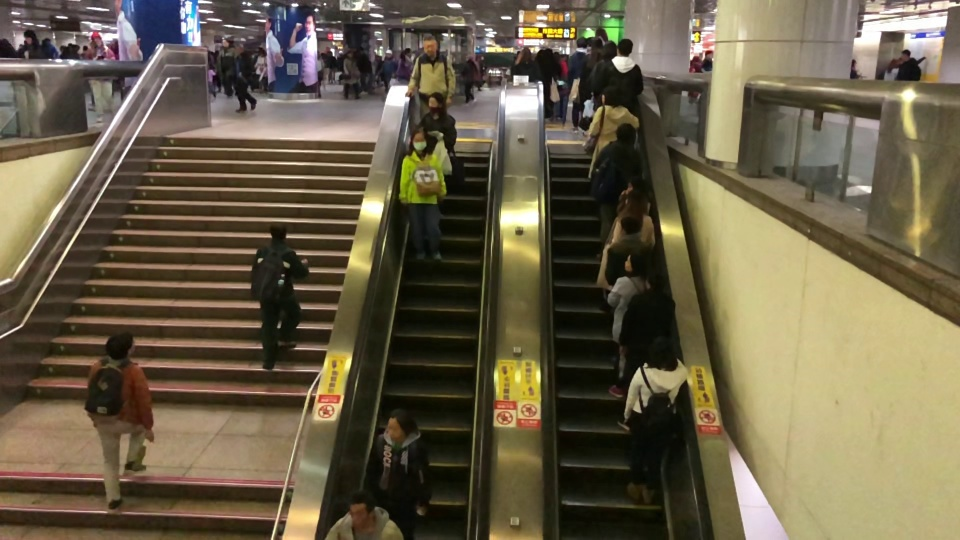person_head: (643, 335, 678, 368), (348, 490, 376, 530), (385, 408, 416, 442), (105, 331, 135, 362), (623, 190, 648, 217), (624, 251, 649, 276), (599, 84, 622, 109), (644, 270, 666, 294), (410, 125, 429, 152), (615, 121, 636, 145), (619, 215, 641, 237), (426, 91, 443, 115), (615, 37, 634, 58), (627, 174, 646, 194), (422, 33, 438, 56), (269, 221, 288, 240), (600, 40, 617, 61), (589, 38, 604, 53), (517, 46, 532, 61), (90, 30, 103, 47), (23, 29, 36, 46), (576, 36, 587, 50), (899, 49, 911, 61), (543, 48, 553, 62), (234, 43, 244, 56), (704, 49, 714, 61), (0, 38, 10, 50), (403, 46, 412, 58), (889, 58, 898, 69), (357, 46, 365, 57), (691, 54, 700, 63), (345, 50, 354, 59), (553, 51, 561, 61), (384, 49, 392, 59), (70, 44, 80, 52), (258, 46, 265, 57), (465, 54, 474, 62), (221, 38, 229, 47), (81, 44, 88, 52), (852, 59, 857, 69), (43, 38, 50, 45), (208, 62, 213, 71), (60, 44, 65, 52), (327, 51, 333, 57), (337, 50, 342, 56), (317, 52, 321, 59)
person_vbox: (83, 331, 155, 512), (622, 334, 689, 506), (615, 270, 676, 431), (365, 408, 432, 540), (258, 221, 310, 371), (591, 121, 643, 262), (397, 125, 448, 263), (606, 251, 652, 398), (587, 84, 640, 180), (403, 33, 456, 121), (592, 37, 644, 116), (324, 490, 404, 540), (604, 215, 653, 287), (85, 30, 115, 123), (416, 91, 457, 157), (611, 190, 654, 247), (581, 38, 604, 132), (567, 36, 587, 134), (229, 43, 257, 113), (585, 40, 618, 99), (540, 48, 561, 121), (616, 174, 650, 215), (217, 38, 236, 99), (553, 51, 568, 124), (510, 47, 539, 82), (696, 49, 714, 104), (342, 50, 361, 101), (376, 48, 397, 94), (17, 29, 49, 59), (894, 49, 921, 81), (460, 54, 477, 104), (356, 45, 372, 96), (687, 54, 702, 103), (395, 46, 414, 82), (254, 45, 266, 94), (882, 58, 899, 82), (41, 37, 58, 59), (316, 52, 324, 98), (326, 51, 336, 85), (0, 38, 16, 59), (850, 58, 864, 79), (208, 63, 216, 99), (69, 44, 80, 59), (336, 49, 343, 72), (80, 44, 88, 58), (58, 44, 65, 59)
